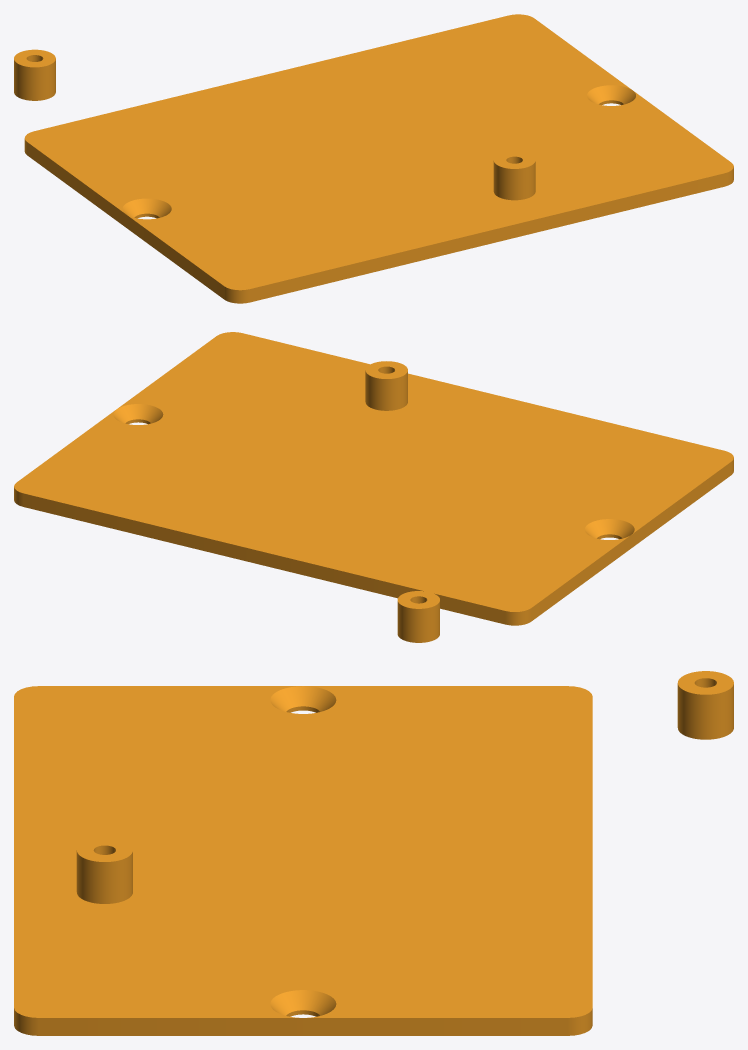
The model's file is soporte_home_registro.fbx.
3 views of the same model, one above another, from view 1: azimuth 30°, elevation 25°; view 2: azimuth 150°, elevation 25°; view 3: azimuth 270°, elevation 25° (orthographic). The views are drawn at different scales.
Visible parts, largest first — view 1: soporte_home_registro; view 2: soporte_home_registro; view 3: soporte_home_registro.
Part boxes in pixels (x1,y1,x2,y2): soporte_home_registro: (14,14,733,303); soporte_home_registro: (14,332,733,642); soporte_home_registro: (14,671,733,1035).
Bounding box in the file's own units: 0.095 × 0.008 × 0.0871.
